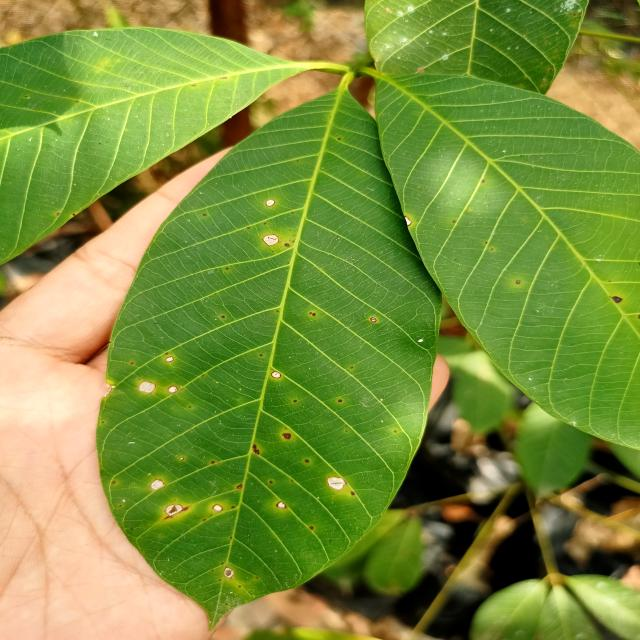Colletotrichum: (139, 381, 156, 393), (262, 235, 279, 246), (612, 296, 622, 303), (168, 386, 178, 393), (271, 371, 281, 378), (282, 433, 292, 440), (213, 504, 223, 511), (266, 200, 275, 207), (276, 502, 286, 508), (370, 317, 377, 323), (166, 356, 173, 362), (237, 484, 242, 489), (304, 459, 310, 463), (480, 180, 485, 183), (516, 281, 520, 284), (284, 244, 290, 246), (312, 313, 316, 316), (211, 461, 215, 464), (338, 400, 343, 402), (221, 316, 225, 318), (203, 214, 207, 216), (130, 362, 134, 364), (293, 400, 297, 402), (309, 312, 312, 314), (247, 227, 250, 229), (260, 354, 262, 356)
